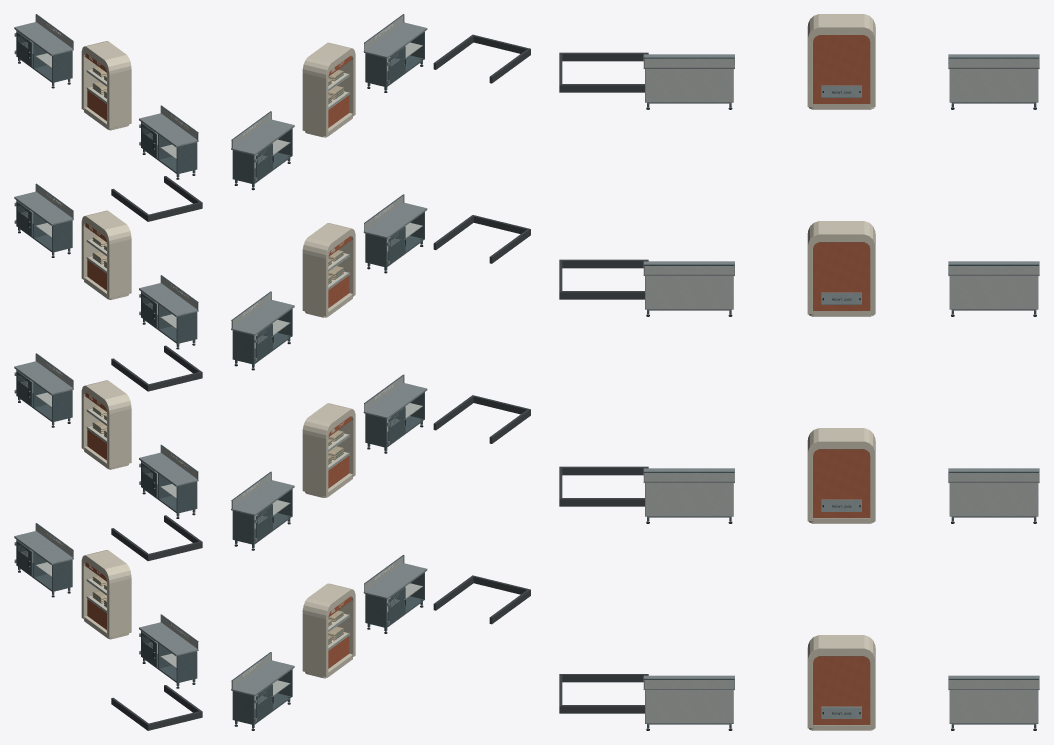
File: TidalUpperLocalServiceFittings.glb
3 renders of one model, left to right at view 1: azimuth 30°, elevation 25°; view 2: azimuth 150°, elevation 25°; view 3: azimuth 270°, elevation 25°, orthographic. The views are drawn at different scales.
Parts seen in each view (by area): view 1: D15_CleanLinenNiche__dry_continuous_sculpted_hood, D16_CleanLinenNiche__dry_continuous_sculpted_hood, D17_CleanLinenNiche__dry_continuous_sculpted_hood, D14_CleanLinenNiche__dry_continuous_sculpted_hood, D15_CleanProductWorkCupboard__COUNTER_continuous_rolled_nose, D17_ClosedReturnsHoldingCupboard__COUNTER_continuous_rolled_, D16_CleanProductWorkCupboard__COUNTER_continuous_rolled_nose, D14_ClosedReturnsHoldingCupboard__COUNTER_continuous_rolled_, D15_ClosedReturnsHoldingCupboard__COUNTER_continuous_rolled_, D17_CleanProductWorkCupboard__COUNTER_continuous_rolled_nose, D14_CleanProductWorkCupboard__COUNTER_continuous_rolled_nose, D16_ClosedReturnsHoldingCupboard__COUNTER_continuous_rolled_ (+24 smaller); view 2: D15_CleanLinenNiche__dry_continuous_sculpted_hood, D14_CleanLinenNiche__dry_continuous_sculpted_hood, D16_CleanLinenNiche__dry_continuous_sculpted_hood, D17_CleanLinenNiche__dry_continuous_sculpted_hood, D14_ClosedReturnsHoldingCupboard__COUNTER_continuous_rolled_, D15_ClosedReturnsHoldingCupboard__COUNTER_continuous_rolled_, D16_ClosedReturnsHoldingCupboard__COUNTER_continuous_rolled_, D17_ClosedReturnsHoldingCupboard__COUNTER_continuous_rolled_, D14_CleanProductWorkCupboard__COUNTER_continuous_rolled_nose, D15_CleanProductWorkCupboard__COUNTER_continuous_rolled_nose, D16_CleanProductWorkCupboard__COUNTER_continuous_rolled_nose, D17_CleanProductWorkCupboard__COUNTER_continuous_rolled_nose (+8 smaller); view 3: D17_CleanLinenNiche__dry_opaque_restock_back, D15_CleanLinenNiche__dry_opaque_restock_back, D16_CleanLinenNiche__dry_opaque_restock_back, D14_CleanLinenNiche__dry_opaque_restock_back, D14_ClosedReturnsHoldingCupboard__BODY_washable_rear_panel, D15_ClosedReturnsHoldingCupboard__BODY_washable_rear_panel, D16_ClosedReturnsHoldingCupboard__BODY_washable_rear_panel, D17_ClosedReturnsHoldingCupboard__BODY_washable_rear_panel, D14_CleanProductWorkCupboard__BODY_washable_rear_panel, D15_CleanProductWorkCupboard__BODY_washable_rear_panel, D16_CleanProductWorkCupboard__BODY_washable_rear_panel, D17_CleanProductWorkCupboard__BODY_washable_rear_panel (+15 smaller).
Part boxes in pixels (x1=…): D15_CleanLinenNiche__dry_continuous_sculpted_hood: x1=81, y1=380, x2=131, y2=468; D16_CleanLinenNiche__dry_continuous_sculpted_hood: x1=81, y1=210, x2=131, y2=298; D17_CleanLinenNiche__dry_continuous_sculpted_hood: x1=81, y1=41, x2=131, y2=128; D14_CleanLinenNiche__dry_continuous_sculpted_hood: x1=81, y1=550, x2=131, y2=637; D15_CleanProductWorkCupboard__COUNTER_continuous_rolled_nose: x1=14, y1=361, x2=73, y2=395; D17_ClosedReturnsHoldingCupboard__COUNTER_continuous_rolled_: x1=139, y1=113, x2=198, y2=147; D16_CleanProductWorkCupboard__COUNTER_continuous_rolled_nose: x1=14, y1=191, x2=73, y2=225; D14_ClosedReturnsHoldingCupboard__COUNTER_continuous_rolled_: x1=139, y1=622, x2=198, y2=656; D15_ClosedReturnsHoldingCupboard__COUNTER_continuous_rolled_: x1=139, y1=452, x2=198, y2=486; D17_CleanProductWorkCupboard__COUNTER_continuous_rolled_nose: x1=14, y1=22, x2=73, y2=56; D14_CleanProductWorkCupboard__COUNTER_continuous_rolled_nose: x1=14, y1=531, x2=73, y2=564; D16_ClosedReturnsHoldingCupboard__COUNTER_continuous_rolled_: x1=139, y1=283, x2=198, y2=317; D15_CleanLinenNiche__dry_continuous_sculpted_hood: x1=302, y1=403, x2=355, y2=496; D14_CleanLinenNiche__dry_continuous_sculpted_hood: x1=302, y1=583, x2=355, y2=676; D16_CleanLinenNiche__dry_continuous_sculpted_hood: x1=302, y1=223, x2=355, y2=316; D17_CleanLinenNiche__dry_continuous_sculpted_hood: x1=302, y1=42, x2=355, y2=135; D14_ClosedReturnsHoldingCupboard__COUNTER_continuous_rolled_: x1=363, y1=563, x2=427, y2=599; D15_ClosedReturnsHoldingCupboard__COUNTER_continuous_rolled_: x1=363, y1=383, x2=427, y2=419; D16_ClosedReturnsHoldingCupboard__COUNTER_continuous_rolled_: x1=363, y1=203, x2=427, y2=239; D17_ClosedReturnsHoldingCupboard__COUNTER_continuous_rolled_: x1=363, y1=22, x2=427, y2=58; D14_CleanProductWorkCupboard__COUNTER_continuous_rolled_nose: x1=231, y1=660, x2=294, y2=696; D15_CleanProductWorkCupboard__COUNTER_continuous_rolled_nose: x1=231, y1=480, x2=294, y2=516; D16_CleanProductWorkCupboard__COUNTER_continuous_rolled_nose: x1=231, y1=300, x2=294, y2=336; D17_CleanProductWorkCupboard__COUNTER_continuous_rolled_nose: x1=231, y1=119, x2=294, y2=155; D17_CleanLinenNiche__dry_opaque_restock_back: x1=813, y1=35, x2=870, y2=103; D15_CleanLinenNiche__dry_opaque_restock_back: x1=813, y1=449, x2=870, y2=517; D16_CleanLinenNiche__dry_opaque_restock_back: x1=813, y1=242, x2=870, y2=310; D14_CleanLinenNiche__dry_opaque_restock_back: x1=813, y1=656, x2=870, y2=724; D14_ClosedReturnsHoldingCupboard__BODY_washable_rear_panel: x1=645, y1=690, x2=733, y2=723; D15_ClosedReturnsHoldingCupboard__BODY_washable_rear_panel: x1=645, y1=483, x2=733, y2=516; D16_ClosedReturnsHoldingCupboard__BODY_washable_rear_panel: x1=645, y1=276, x2=733, y2=309; D17_ClosedReturnsHoldingCupboard__BODY_washable_rear_panel: x1=645, y1=69, x2=733, y2=102; D14_CleanProductWorkCupboard__BODY_washable_rear_panel: x1=950, y1=690, x2=1037, y2=723; D15_CleanProductWorkCupboard__BODY_washable_rear_panel: x1=950, y1=483, x2=1037, y2=516; D16_CleanProductWorkCupboard__BODY_washable_rear_panel: x1=950, y1=276, x2=1037, y2=309; D17_CleanProductWorkCupboard__BODY_washable_rear_panel: x1=950, y1=69, x2=1037, y2=102.
Size of the model in its own units: 2.37 by 15.32 by 9.46.
58 materials, 56 textured.
